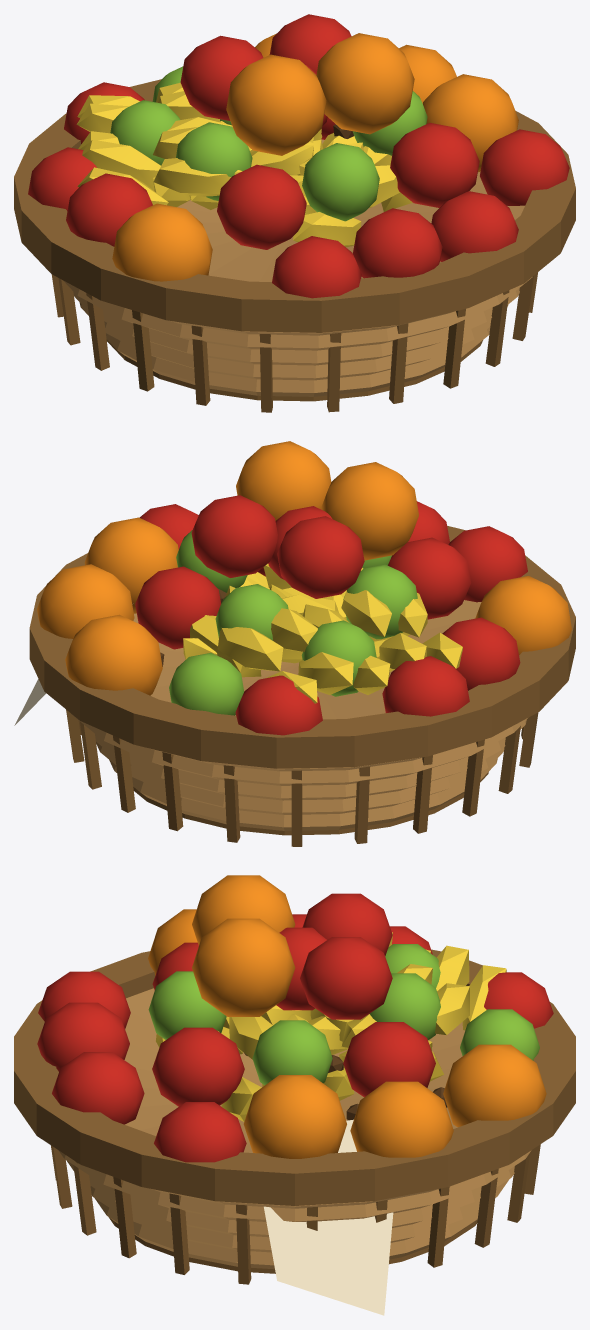
Rendered from decoracion-canasta-mixta.glb.
3 renders of one model, top to bottom at view 1: azimuth 30°, elevation 25°; view 2: azimuth 150°, elevation 25°; view 3: azimuth 270°, elevation 25°, orthographic. The views are drawn at different scales.
Parts seen in each view (by area): view 1: canasta_mixta_FrutaManzana, canasta_mixta_MimbreOscuro, canasta_mixta_FrutaNaranja, canasta_mixta_Mimbre, canasta_mixta_FrutaBanano, canasta_mixta_FrutaLima; view 2: canasta_mixta_MimbreOscuro, canasta_mixta_FrutaManzana, canasta_mixta_FrutaNaranja, canasta_mixta_Mimbre, canasta_mixta_FrutaBanano, canasta_mixta_FrutaLima; view 3: canasta_mixta_MimbreOscuro, canasta_mixta_FrutaManzana, canasta_mixta_FrutaNaranja, canasta_mixta_Mimbre, canasta_mixta_FrutaLima, canasta_mixta_PanoCrema, canasta_mixta_FrutaBanano.
Part boxes in pixels (x1,y1,x2,y2): canasta_mixta_FrutaManzana: (28,14,569,298); canasta_mixta_MimbreOscuro: (14,79,575,412); canasta_mixta_FrutaNaranja: (112,33,518,281); canasta_mixta_Mimbre: (63,139,532,396); canasta_mixta_FrutaBanano: (76,82,412,247); canasta_mixta_FrutaLima: (110,66,427,221); canasta_mixta_MimbreOscuro: (29,526,575,846); canasta_mixta_FrutaManzana: (135,495,527,735); canasta_mixta_FrutaNaranja: (37,441,571,695); canasta_mixta_Mimbre: (71,600,527,830); canasta_mixta_FrutaBanano: (183,563,462,703); canasta_mixta_FrutaLima: (169,530,417,715); canasta_mixta_MimbreOscuro: (14,949,575,1284); canasta_mixta_FrutaManzana: (37,893,553,1162); canasta_mixta_FrutaNaranja: (148,875,546,1158); canasta_mixta_Mimbre: (58,988,531,1269); canasta_mixta_FrutaLima: (148,944,539,1085); canasta_mixta_PanoCrema: (264,1119,393,1315); canasta_mixta_FrutaBanano: (156,932,506,1121).
Size of the model in its own units: 0.663 by 0.361 by 0.6295.
